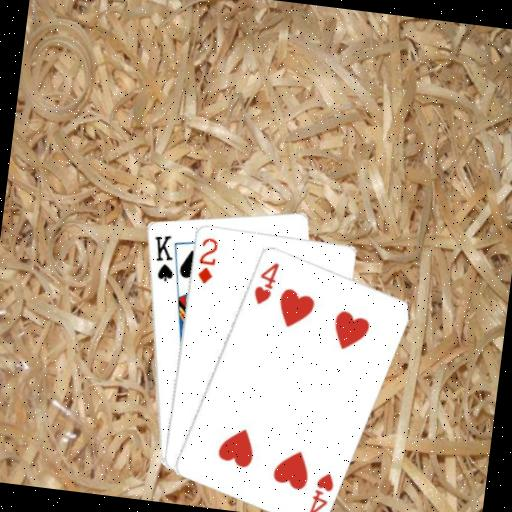2D: (193, 233, 220, 286)
4H: (250, 257, 282, 307), (305, 467, 336, 512)
KS: (145, 230, 179, 284)
